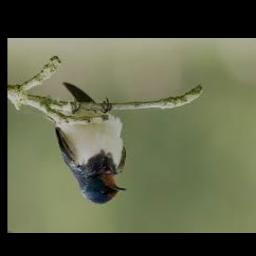Swallow: (56, 82, 128, 204)
